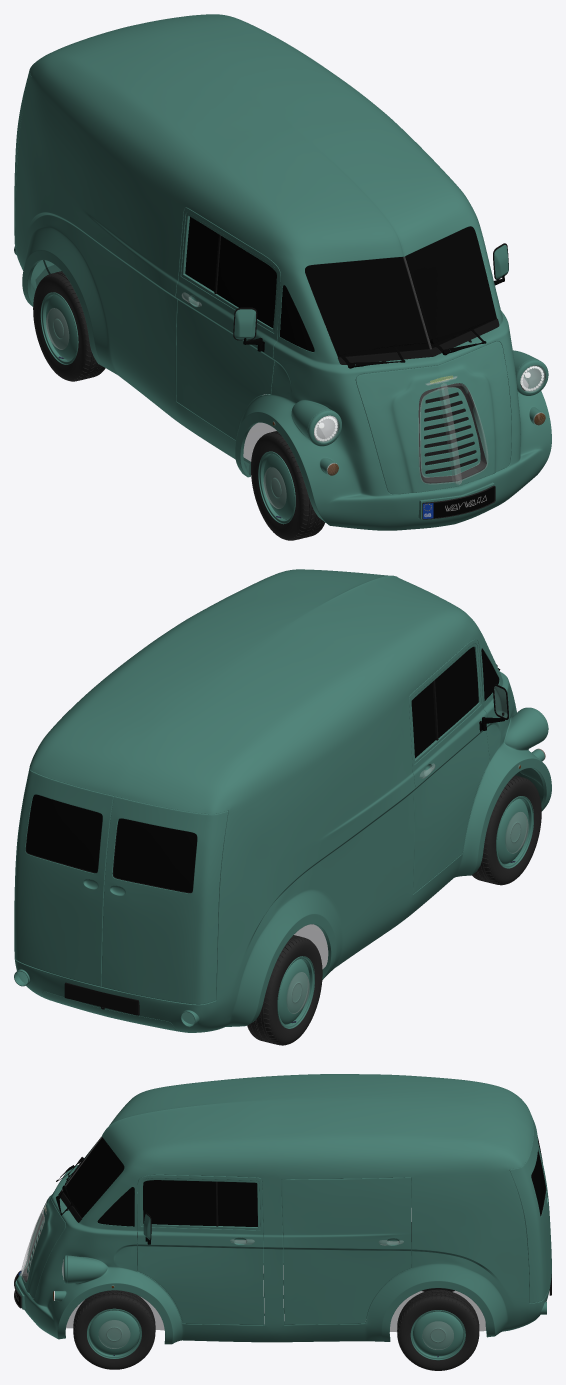
Rendered from van.glb.
3 renders of one model, top to bottom at view 1: azimuth 30°, elevation 25°; view 2: azimuth 150°, elevation 25°; view 3: azimuth 270°, elevation 25°, orthographic. The views are drawn at different scales.
Visible parts, largest first — view 1: mainBody, windows, tyre, chrome, grate, rubberLinings, underbody, licensePlateHolders, wipers, headlightCover; view 2: mainBody, windows, tyre, rubberLinings, chrome, underbody; view 3: mainBody, windows, tyre, chrome, underbody, rubberLinings.
Boxes of the visible parts, x1,y1,x2,y2 form: mainBody: [14, 14, 551, 530]; windows: [185, 216, 496, 357]; tyre: [33, 271, 536, 540]; chrome: [46, 257, 545, 508]; grate: [418, 383, 486, 483]; rubberLinings: [214, 234, 525, 425]; underbody: [31, 260, 524, 475]; licensePlateHolders: [422, 485, 495, 519]; wipers: [243, 275, 504, 368]; headlightCover: [315, 366, 544, 441]; mainBody: [14, 569, 551, 1032]; windows: [26, 647, 499, 892]; tyre: [247, 775, 541, 1045]; rubberLinings: [25, 680, 508, 1015]; chrome: [286, 749, 545, 1013]; underbody: [182, 768, 543, 1023]; mainBody: [15, 1074, 551, 1360]; windows: [62, 1137, 545, 1226]; tyre: [73, 1222, 479, 1370]; chrome: [20, 1137, 453, 1349]; underbody: [66, 1288, 486, 1331]; rubberLinings: [58, 1153, 551, 1295].
Bounding box in the file's own units: 16.93 × 18.2 × 38.49.
15 materials, 2 textured.
